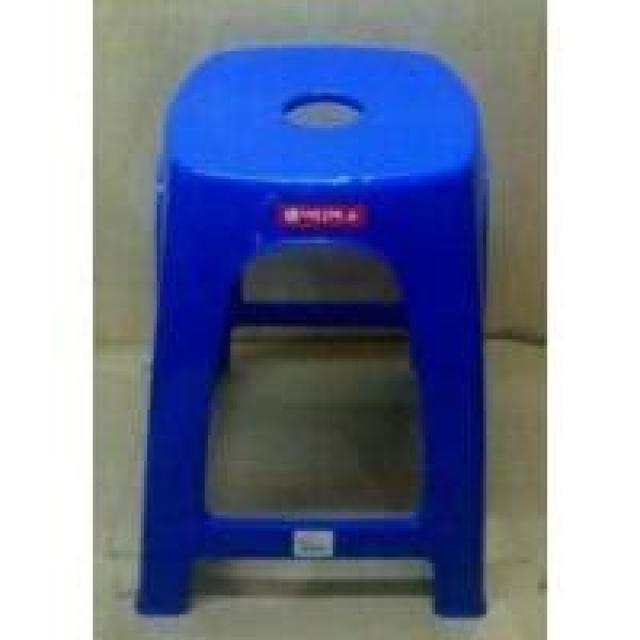chair: (117, 18, 522, 640)
